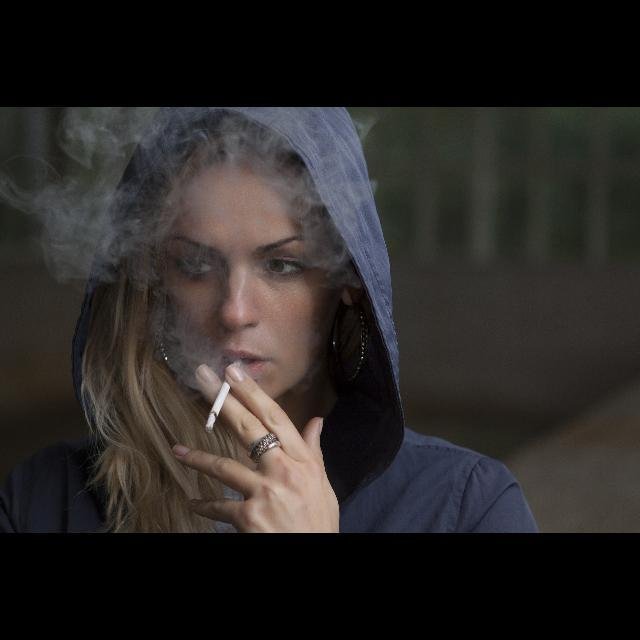rokok: (202, 369, 238, 436)
